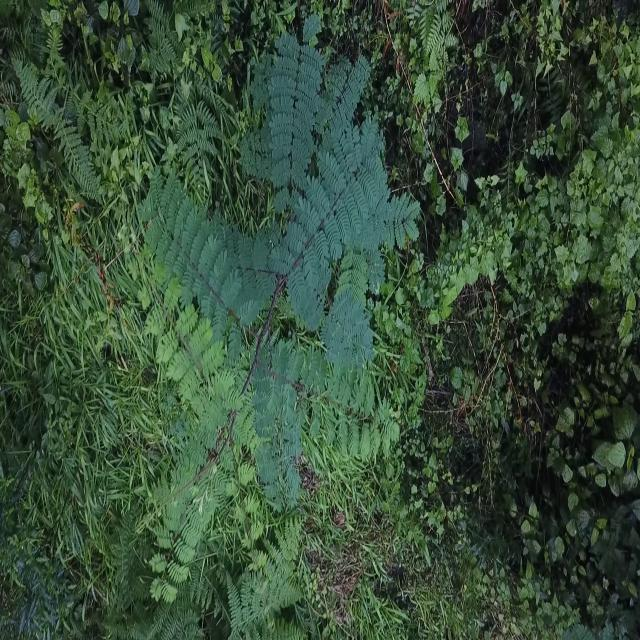Mysore-Thorn-Weed: (141, 12, 424, 607)
